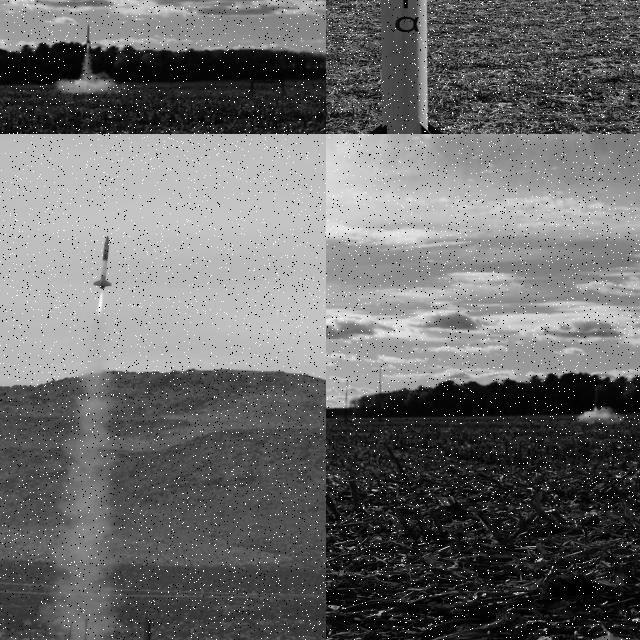Rocket: (368, 0, 445, 134), (92, 235, 112, 289), (134, 608, 154, 640), (593, 386, 600, 407), (85, 23, 91, 43)
